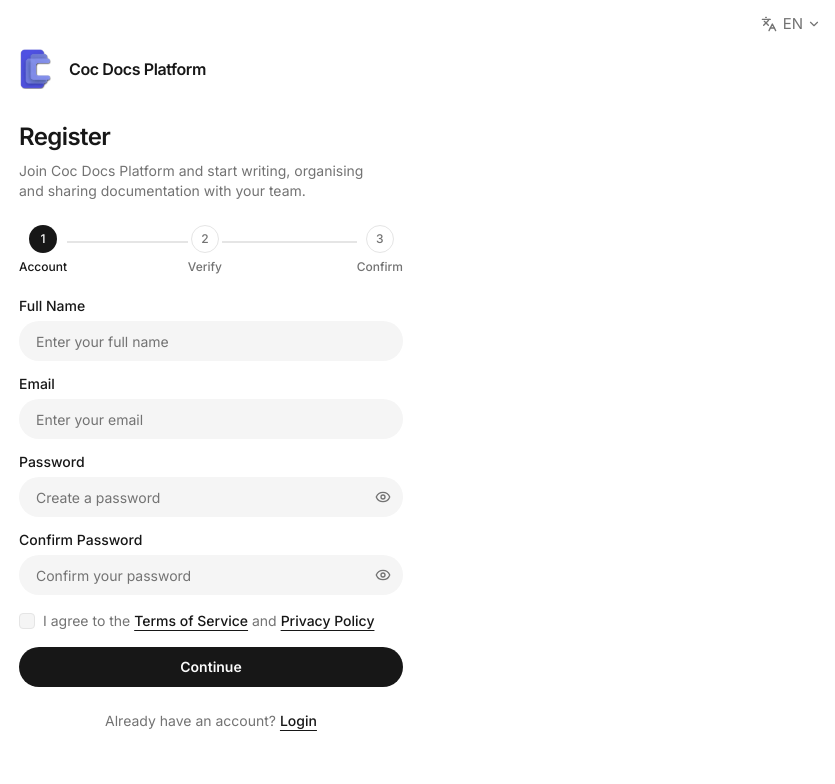
Test case: RegisterPage › shows a generic failure banner and stays on the form for any other error
In the field labelled "Full Name": {"x": 211, "y": 341} x1=19 y1=321 x2=403 y2=361, type "New Person"
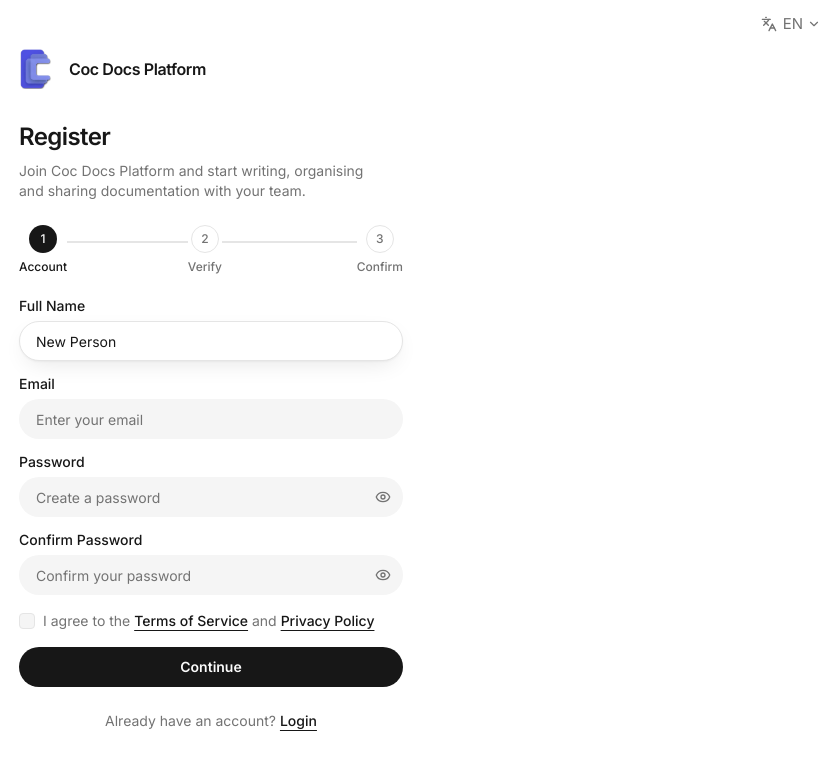
In the field labelled "Email": {"x": 211, "y": 419} x1=19 y1=399 x2=403 y2=439, type "new.person@example.com"
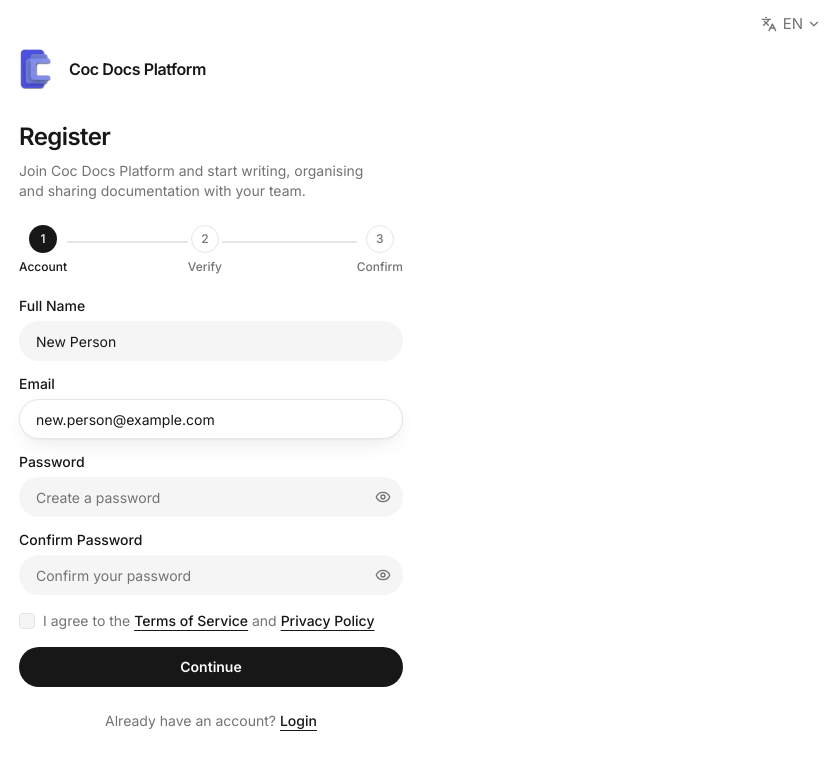
In the password field labelled "Password": {"x": 211, "y": 497} x1=19 y1=477 x2=403 y2=517, type "Hunter2222!x"
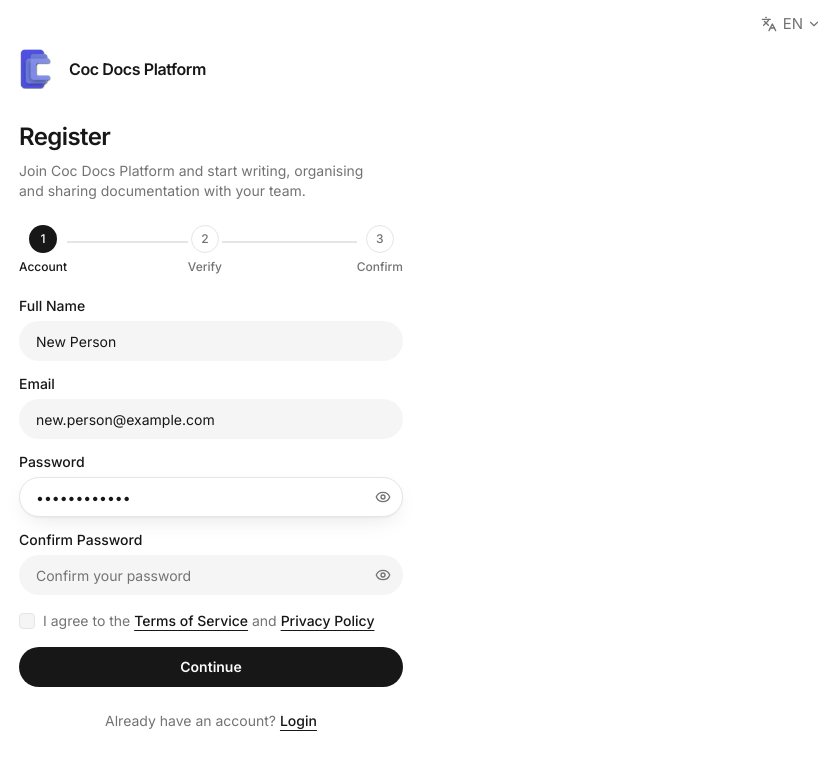
In the password field labelled "Confirm Password": {"x": 211, "y": 575} x1=19 y1=555 x2=403 y2=595, type "Hunter2222!x"
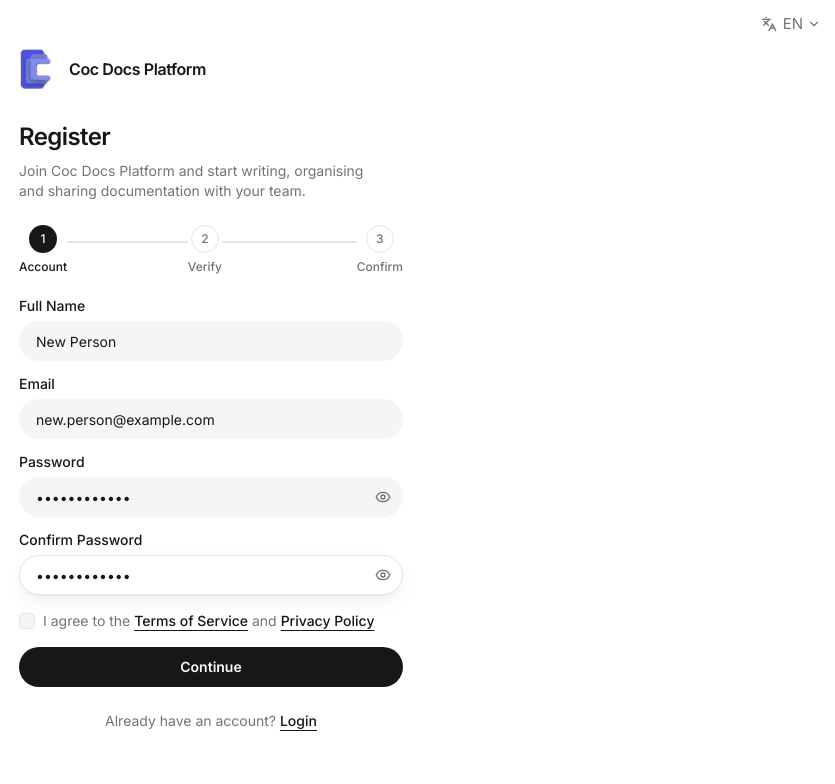
Click the checkbox labelled "I agree to the Terms of Service and Privacy Policy": {"x": 27, "y": 621} x1=19 y1=613 x2=35 y2=629
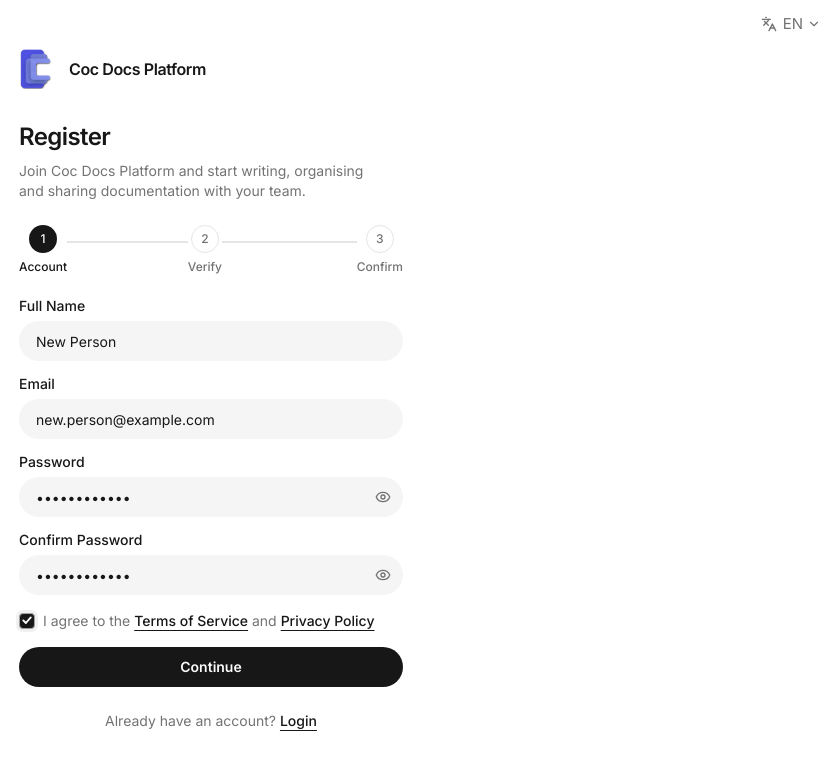
Click the button "Continue": {"x": 211, "y": 667} x1=19 y1=647 x2=403 y2=687
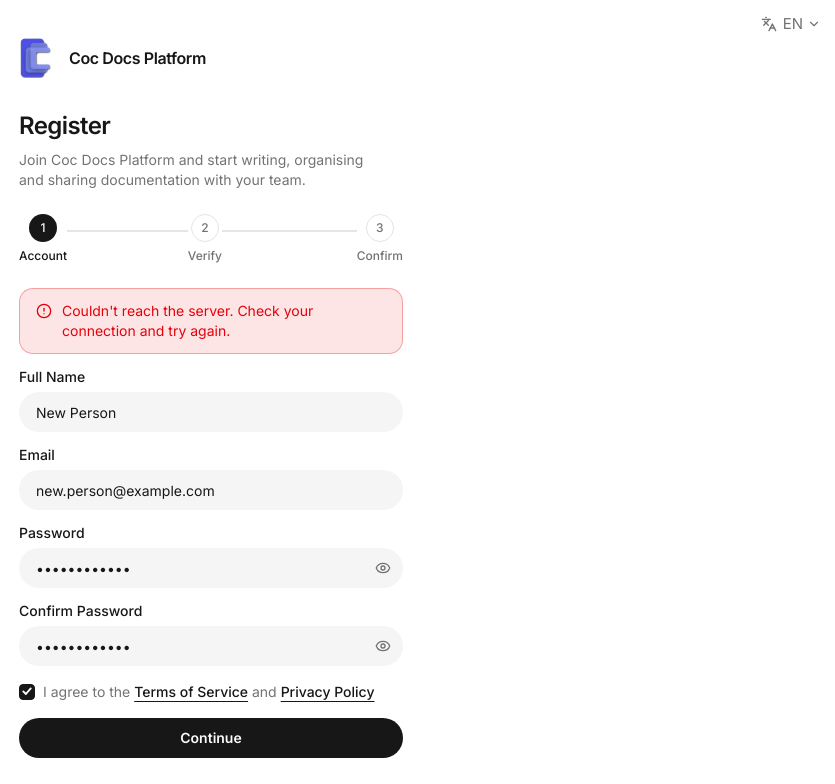
Expected: the text "Couldn't reach the server. Check your connection and try again." is shown, x1=62 y1=302 x2=313 y2=339
